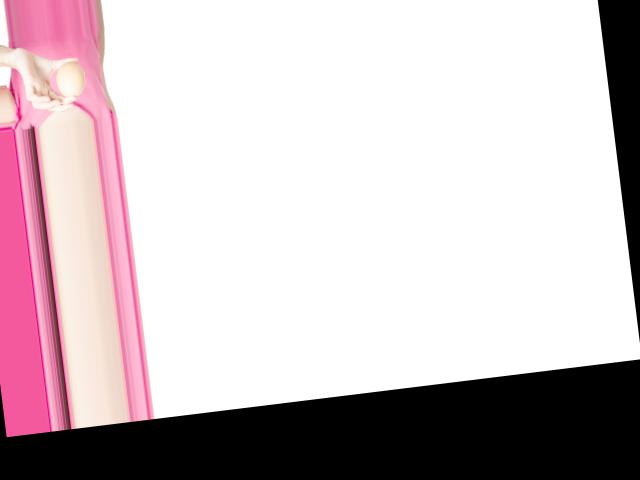egg: (54, 60, 86, 99)
